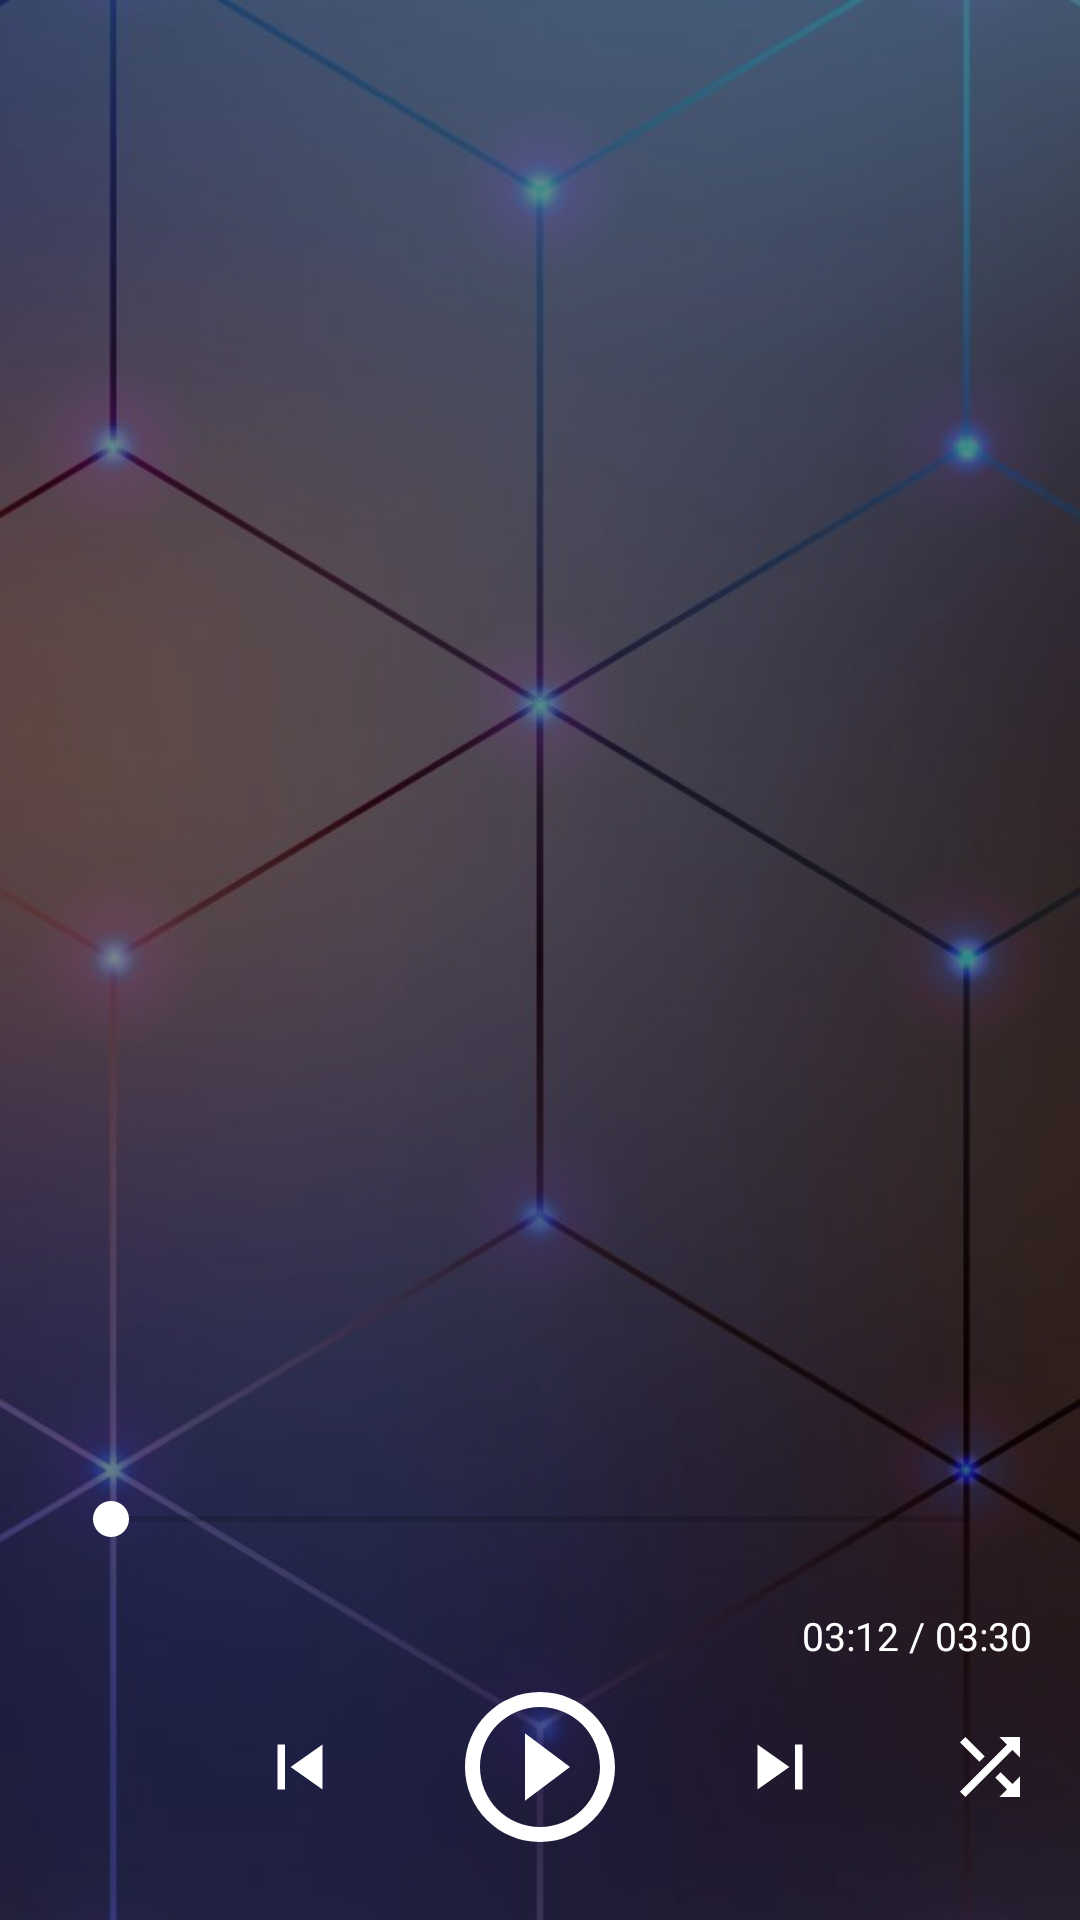

Named icons in this screenshot (1080 x 1920) and their bounding boxes, [x1=x1, y1=y1, x2=x2, y2=y2]:
play circle: [x1=451, y1=1672, x2=615, y2=1842]
skip next: [x1=757, y1=1744, x2=803, y2=1790]
skip previous: [x1=277, y1=1744, x2=323, y2=1790]
